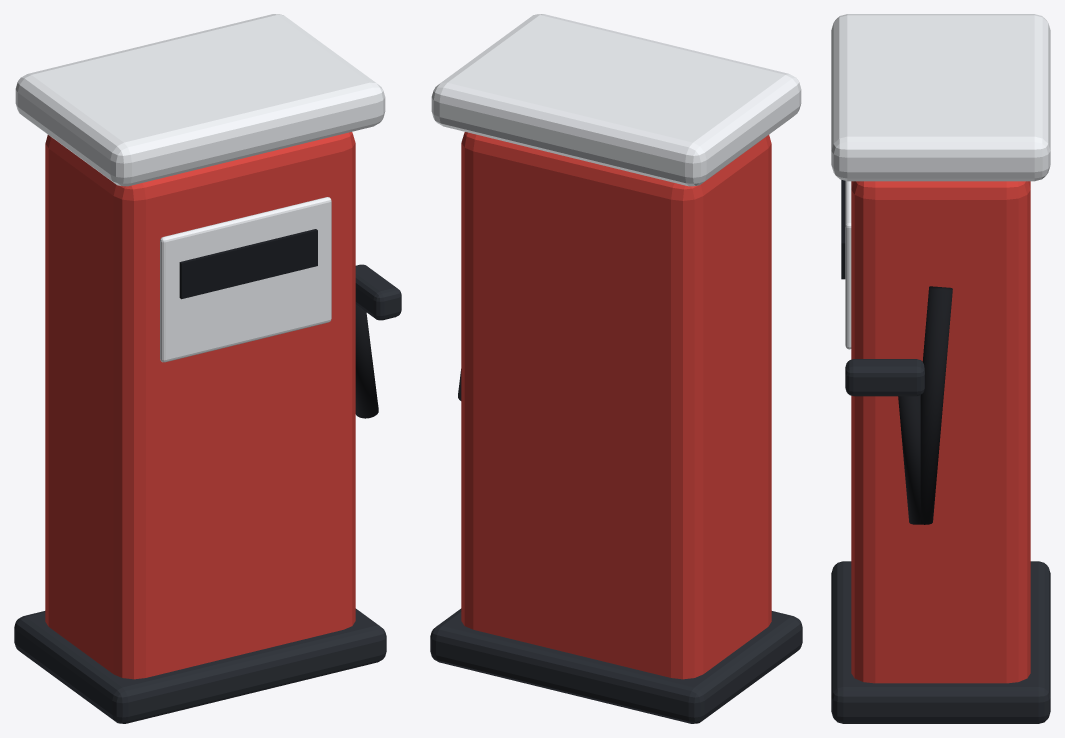
The model's file is bomba_gasolina.glb.
The picture shows the model from 3 angles, left to right: view 1: azimuth 30°, elevation 25°; view 2: azimuth 150°, elevation 25°; view 3: azimuth 270°, elevation 25°; orthographic projection.
Visible parts, largest first — view 1: Cube, Cube.003, Cube.001, Cube.004, Cube.002, Cylinder.001, Cube.005; view 2: Cube, Cube.003, Cube.004; view 3: Cube, Cube.003, Cube.004, Cylinder, Cube.005, Cylinder.001, Cube.001, Cube.002.
Part boxes in pixels (x1=…): Cube: x1=45, y1=132, x2=355, y2=679; Cube.003: x1=15, y1=14, x2=385, y2=186; Cube.001: x1=160, y1=197, x2=331, y2=362; Cube.004: x1=14, y1=608, x2=386, y2=723; Cube.002: x1=179, y1=229, x2=317, y2=299; Cylinder.001: x1=355, y1=304, x2=378, y2=418; Cube.005: x1=355, y1=264, x2=401, y2=320; Cube: x1=461, y1=132, x2=771, y2=679; Cube.003: x1=431, y1=14, x2=801, y2=186; Cube.004: x1=430, y1=608, x2=802, y2=723; Cube: x1=851, y1=181, x2=1030, y2=683; Cube.003: x1=831, y1=14, x2=1050, y2=181; Cube.004: x1=831, y1=561, x2=1050, y2=723; Cylinder: x1=912, y1=286, x2=952, y2=524; Cube.005: x1=845, y1=359, x2=924, y2=396; Cylinder.001: x1=898, y1=395, x2=926, y2=524; Cube.001: x1=845, y1=181, x2=851, y2=349; Cube.002: x1=841, y1=180, x2=845, y2=279.
Size of the model in its own units: 0.8895 by 1.62 by 0.55.
